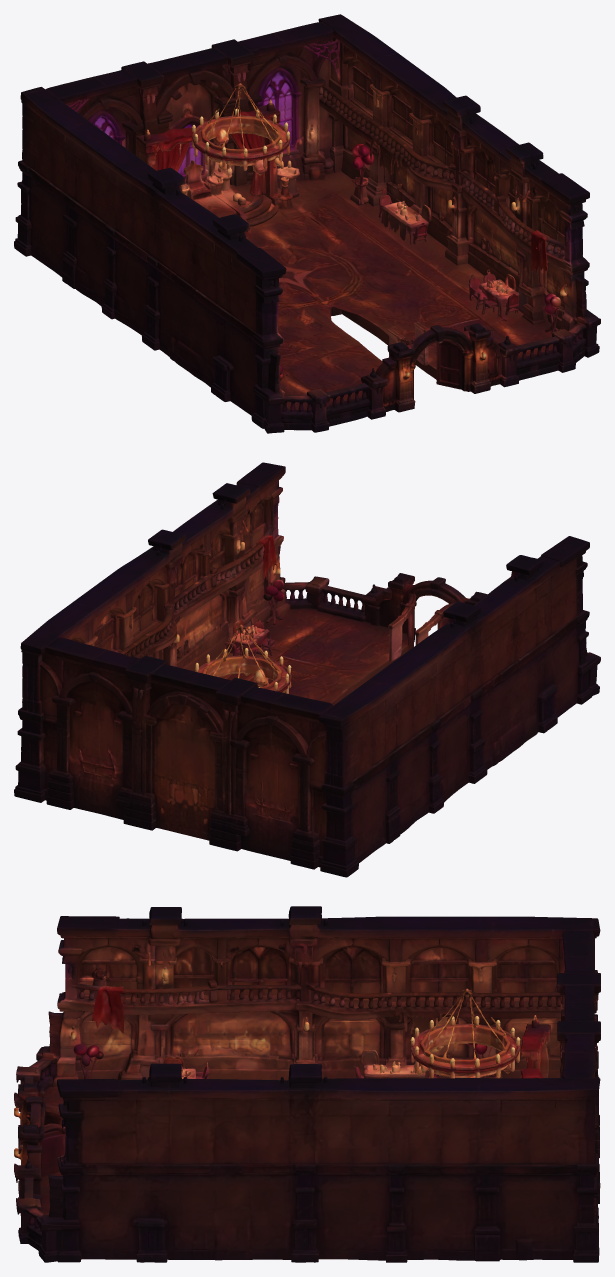
The model's file is ball-room.glb.
The picture shows the model from 3 angles, top to bottom: view 1: azimuth 30°, elevation 25°; view 2: azimuth 150°, elevation 25°; view 3: azimuth 270°, elevation 25°; orthographic projection. The views are drawn at different scales.
Parts seen in each view (by area): view 1: model; view 2: model; view 3: model.
Part boxes in pixels (box(x1,y1,x2,y2)): model: box(14, 14, 600, 433); model: box(14, 462, 600, 877); model: box(14, 906, 600, 1262).
Bounding box in the file's own units: 1.36 × 0.6605 × 1.89.
1 material, 1 textured.
